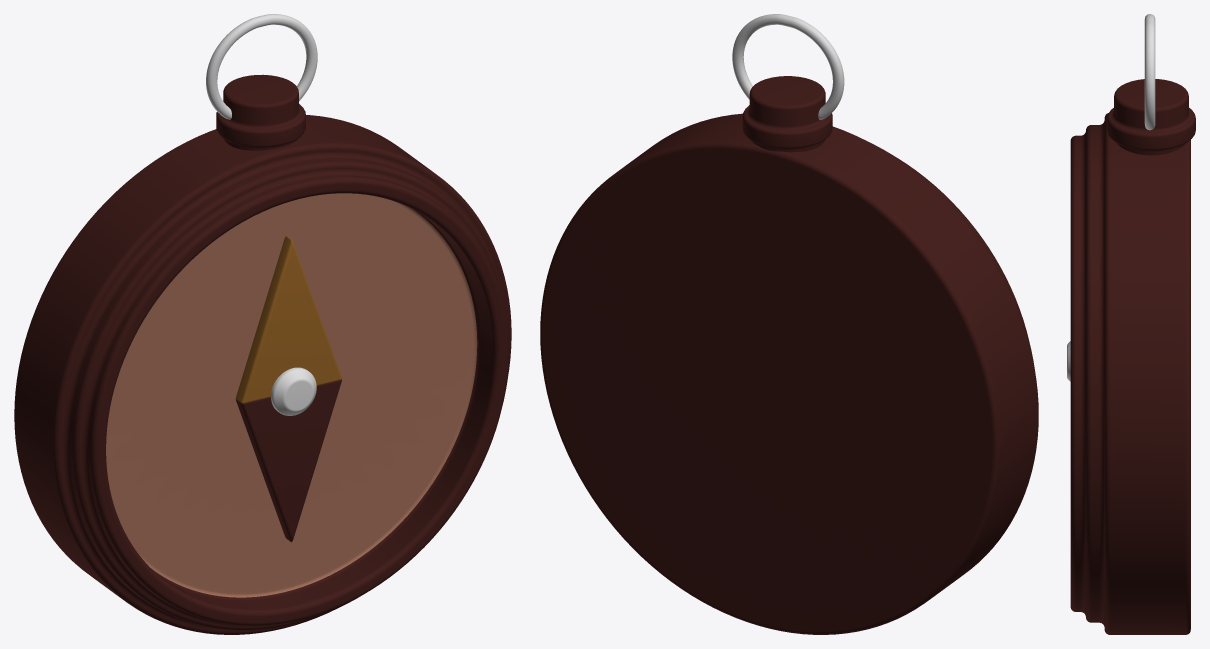
File: Compass.fbx
The picture shows the model from 3 angles, left to right: view 1: azimuth 30°, elevation 25°; view 2: azimuth 150°, elevation 25°; view 3: azimuth 270°, elevation 25°; orthographic projection.
Parts seen in each view (by area): view 1: Cylinder.001, Cube.003, Cube.002, Cylinder, Circle, Cylinder.003; view 2: Cylinder.001, Cylinder, Circle; view 3: Cylinder.001, Cylinder, Circle.
Part boxes in pixels (x1=…): Cylinder.001: x1=14, y1=115, x2=511, y2=634; Cube.003: x1=235, y1=236, x2=341, y2=403; Cube.002: x1=235, y1=379, x2=341, y2=542; Cylinder: x1=216, y1=74, x2=305, y2=150; Circle: x1=206, y1=14, x2=317, y2=119; Cylinder.003: x1=270, y1=367, x2=316, y2=415; Cylinder.001: x1=540, y1=113, x2=1038, y2=634; Cylinder: x1=742, y1=76, x2=832, y2=152; Circle: x1=732, y1=14, x2=844, y2=119; Cylinder.001: x1=1070, y1=113, x2=1190, y2=634; Cylinder: x1=1107, y1=79, x2=1195, y2=155; Circle: x1=1144, y1=14, x2=1155, y2=130.
Bounding box in the file's own units: 118 × 147 × 29.21.
